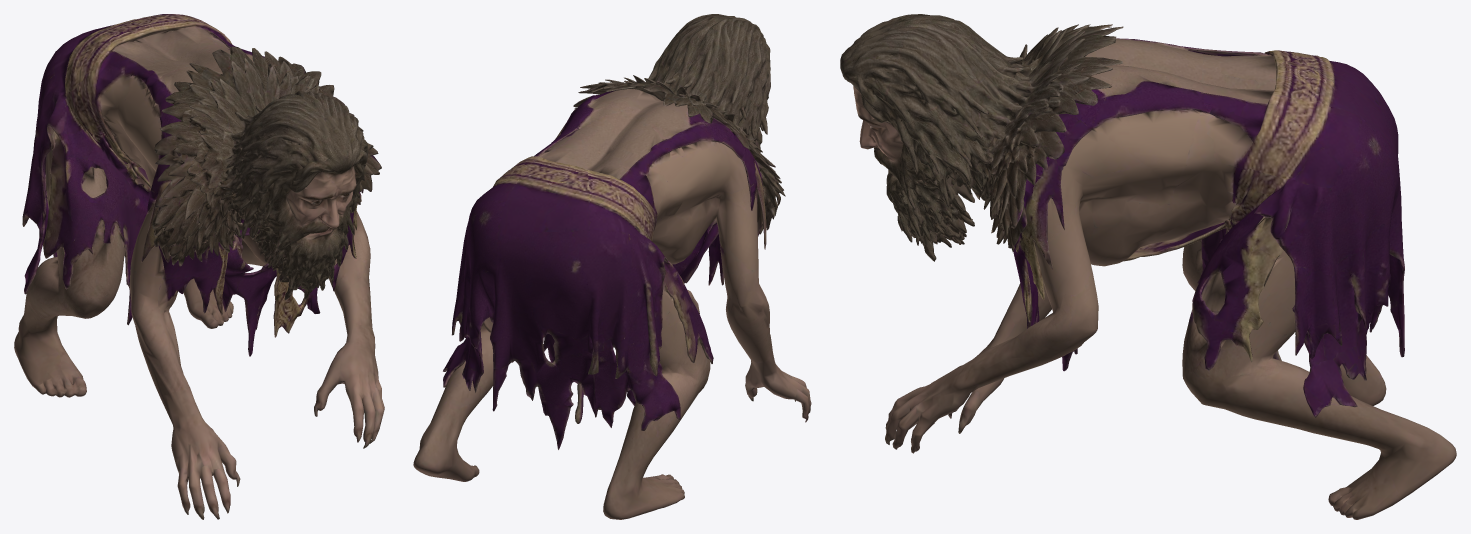
Rendered from ox_king.glb.
3 views of the same model, side by side, from view 1: azimuth 30°, elevation 25°; view 2: azimuth 150°, elevation 25°; view 3: azimuth 270°, elevation 25° (orthographic). The views are drawn at different scales.
Bounding box in the file's own units: 1.01 × 1.56 × 1.9.
1 material, 1 textured.
